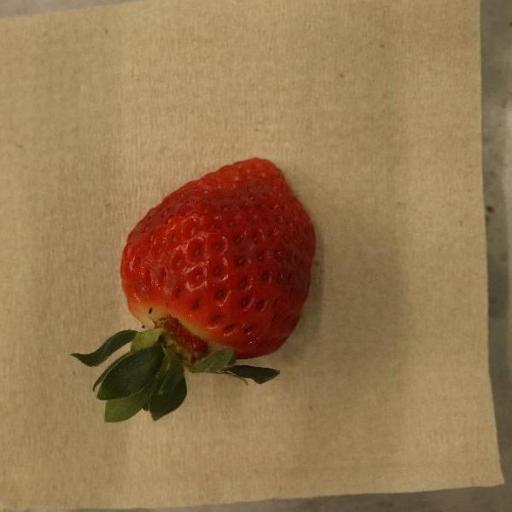Strawberry: (72, 158, 316, 425)
